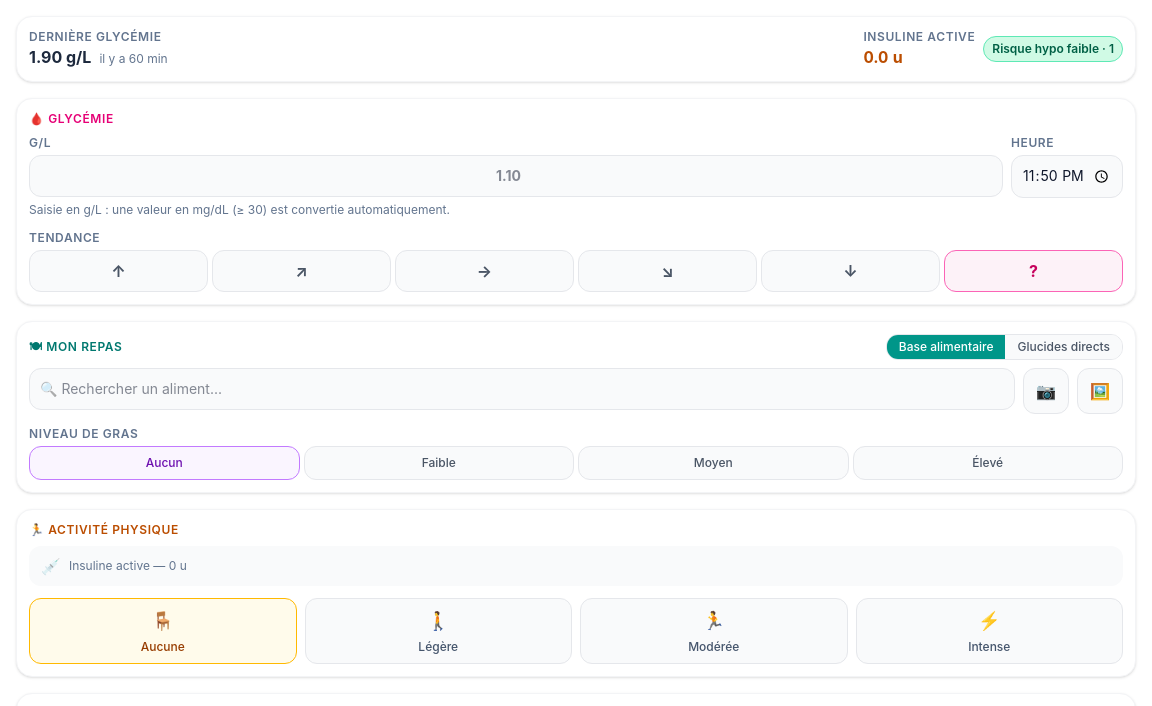
Test: ConsultationScreen › utilise la vitesse mesurée depuis le journal
The width and height of the screenshot is (1152, 706).
Type "1.30" into the number field with placeholder "1.10". click: (516, 176)
box: [29,155,1003,197]
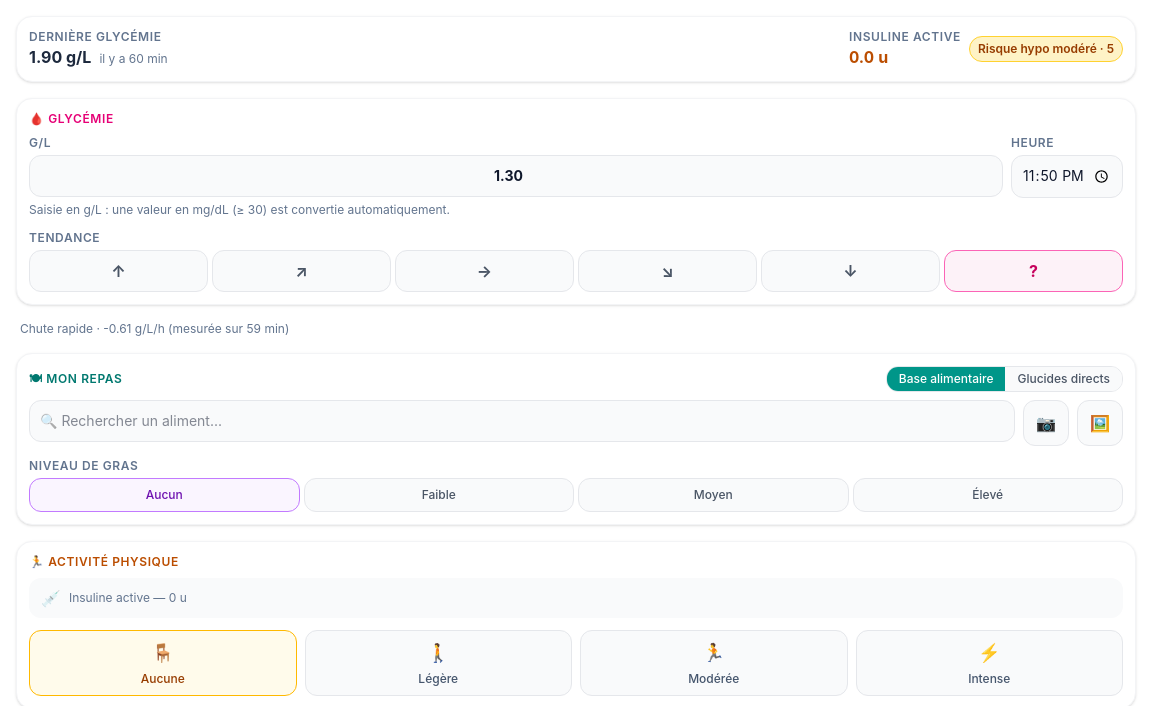
Result: the text "Chute rapide · -0.61 g/L/h (mesurée sur 59 min)" is shown at [20,321,289,336]
